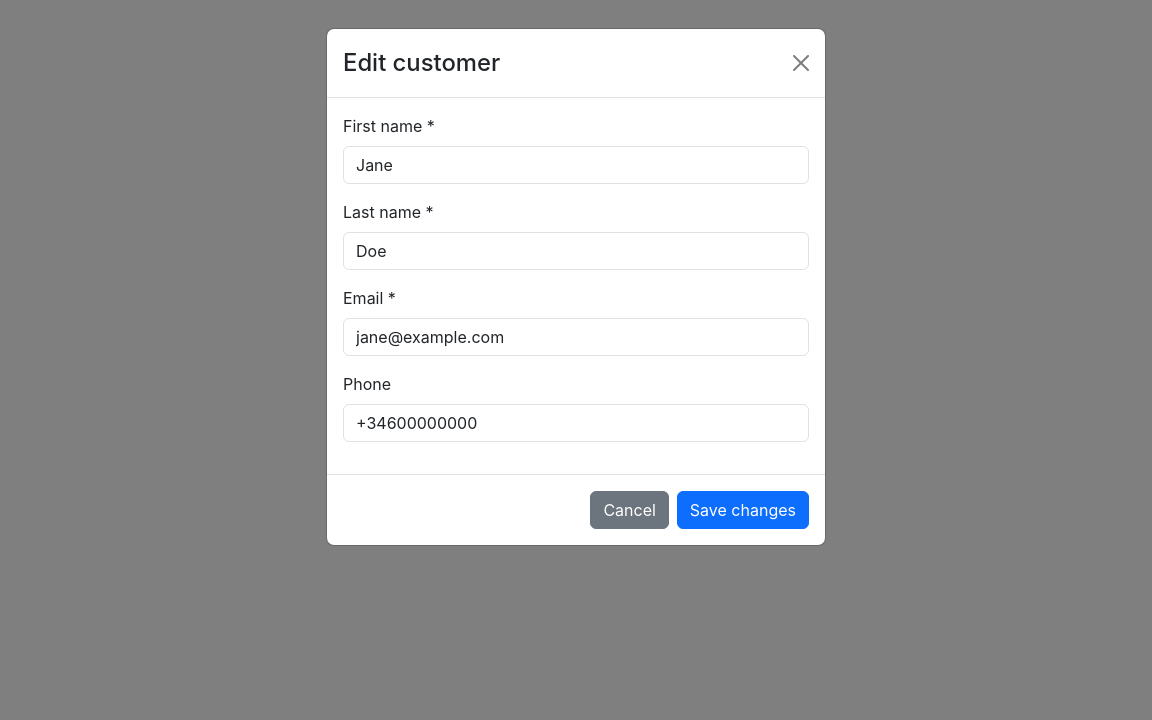
it: CustomerFormModal › shows CUSTOMER_NOT_FOUND in edit mode
Click the button with test id "btn-modal-save" at (743, 510), box 677,491 -> 809,529
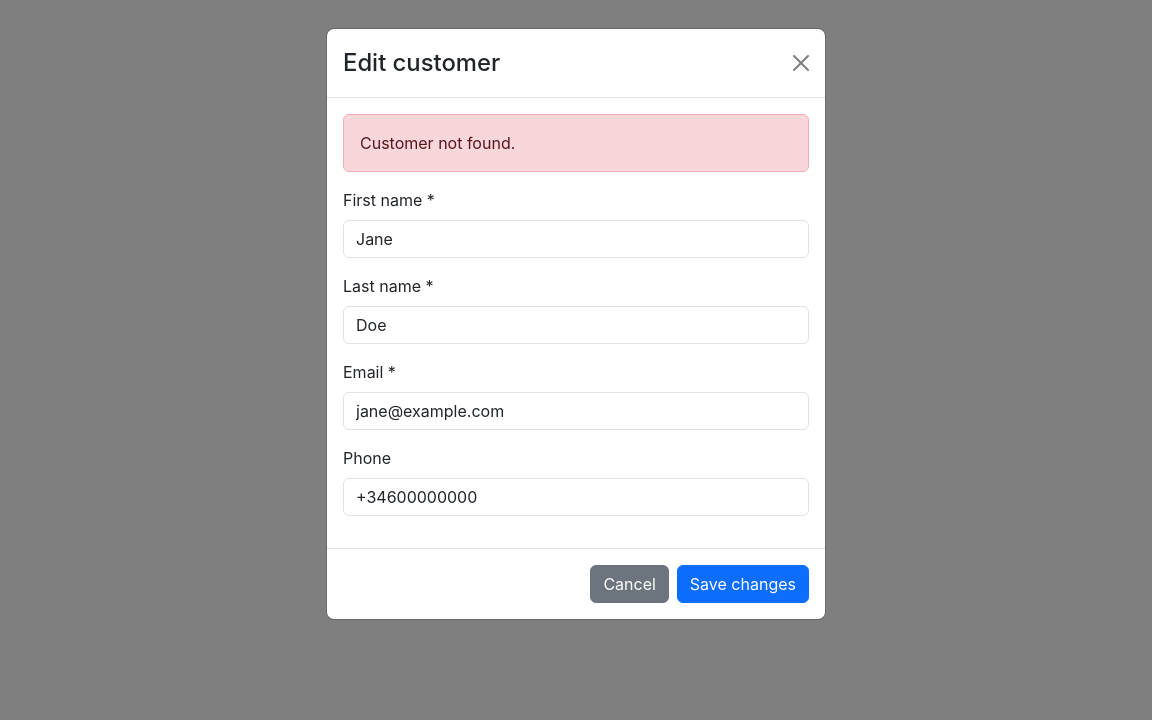
Expected: the text "Customer not found." is shown, 343,114 -> 809,172
